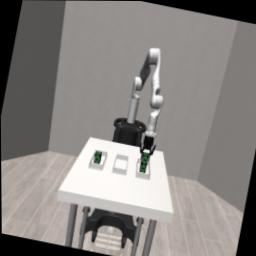cube1: (93, 150, 102, 163)
cube2: (141, 152, 149, 164)
cube3: (139, 163, 147, 173)
